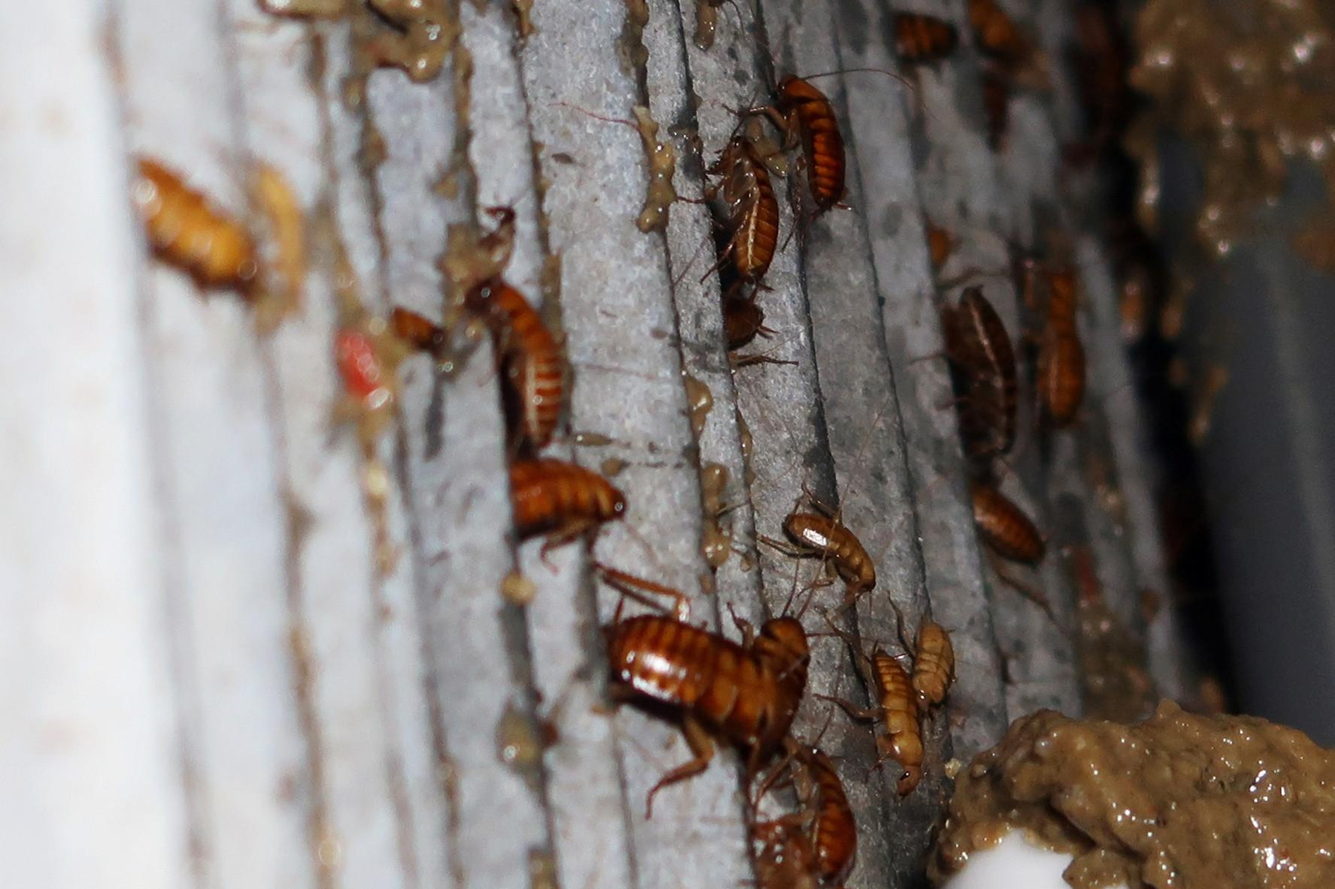cockroach: (601, 617, 792, 733), (134, 158, 264, 304), (465, 272, 563, 446), (499, 449, 630, 566), (941, 271, 1019, 462), (706, 122, 781, 295), (768, 71, 853, 219), (736, 595, 807, 751), (780, 499, 878, 600), (865, 649, 929, 798), (1036, 266, 1089, 430), (964, 478, 1050, 575), (801, 738, 858, 880), (908, 607, 956, 713), (887, 6, 961, 74)
